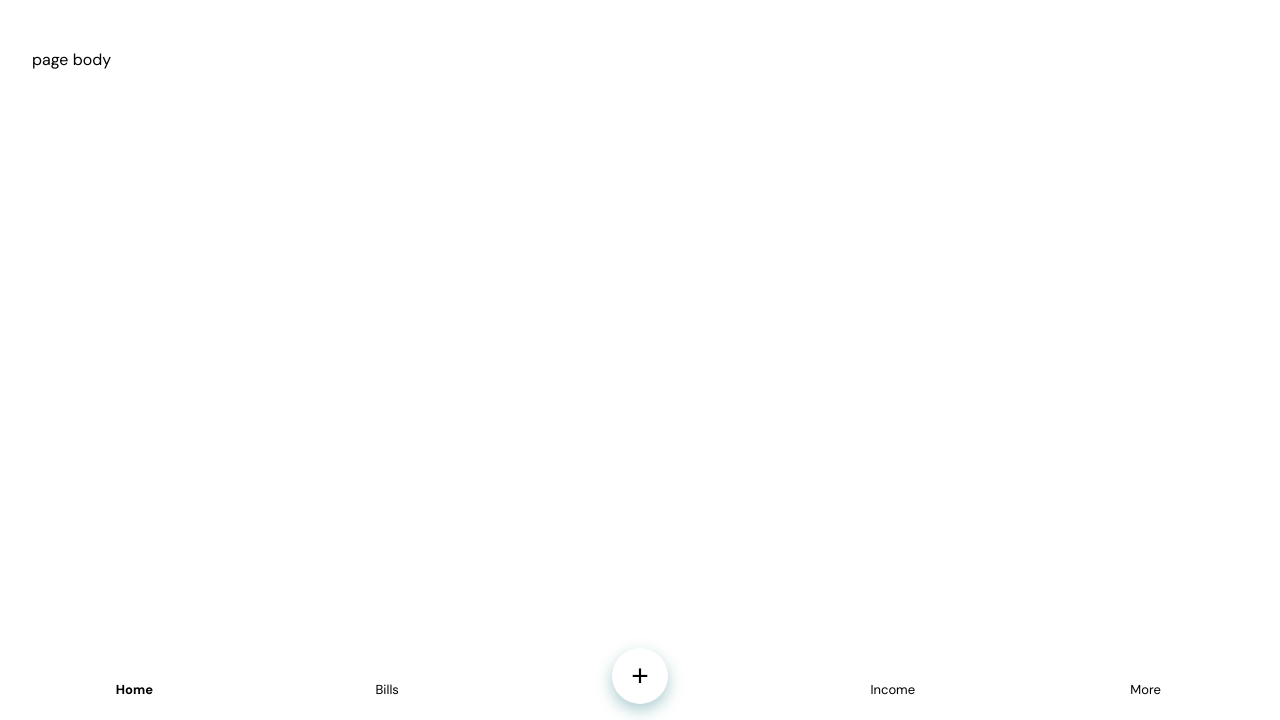
Test: P1-07: Shell at phone width › More opens Paychecks, Recurring bills, Accounts, Allocation settings and Year in review
Click the button "More" at (1146, 690), box [1122, 668, 1169, 712]
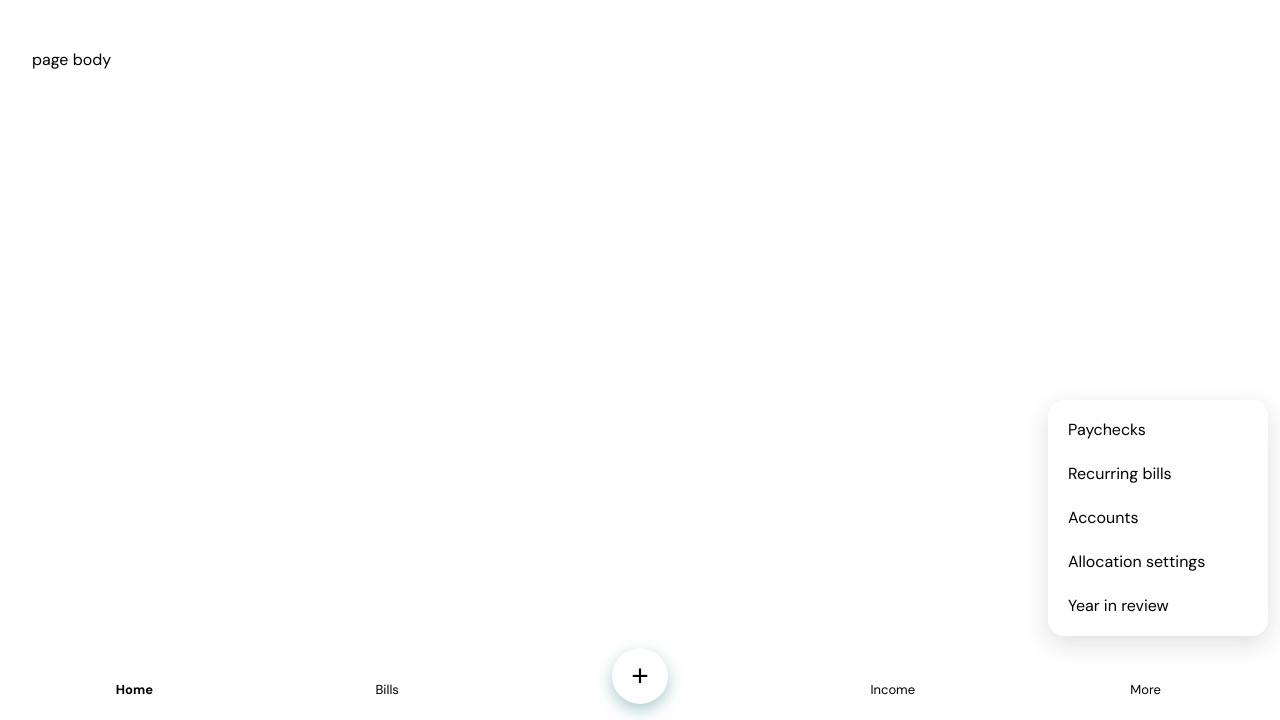
Now the menu items read "Paychecks", "Recurring bills", "Accounts", "Allocation settings", "Year in review", in this order
Click the menu item "Accounts" at (1158, 518), box [1056, 496, 1260, 540]
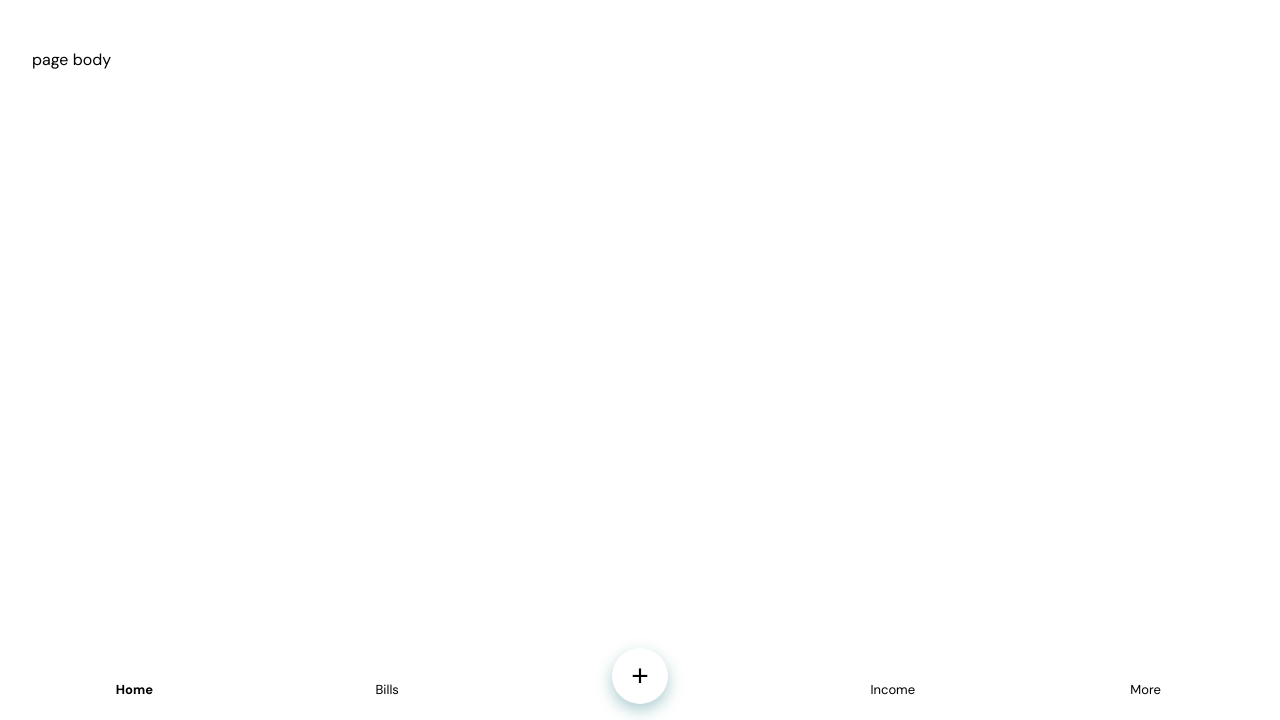
Now the menu is gone
